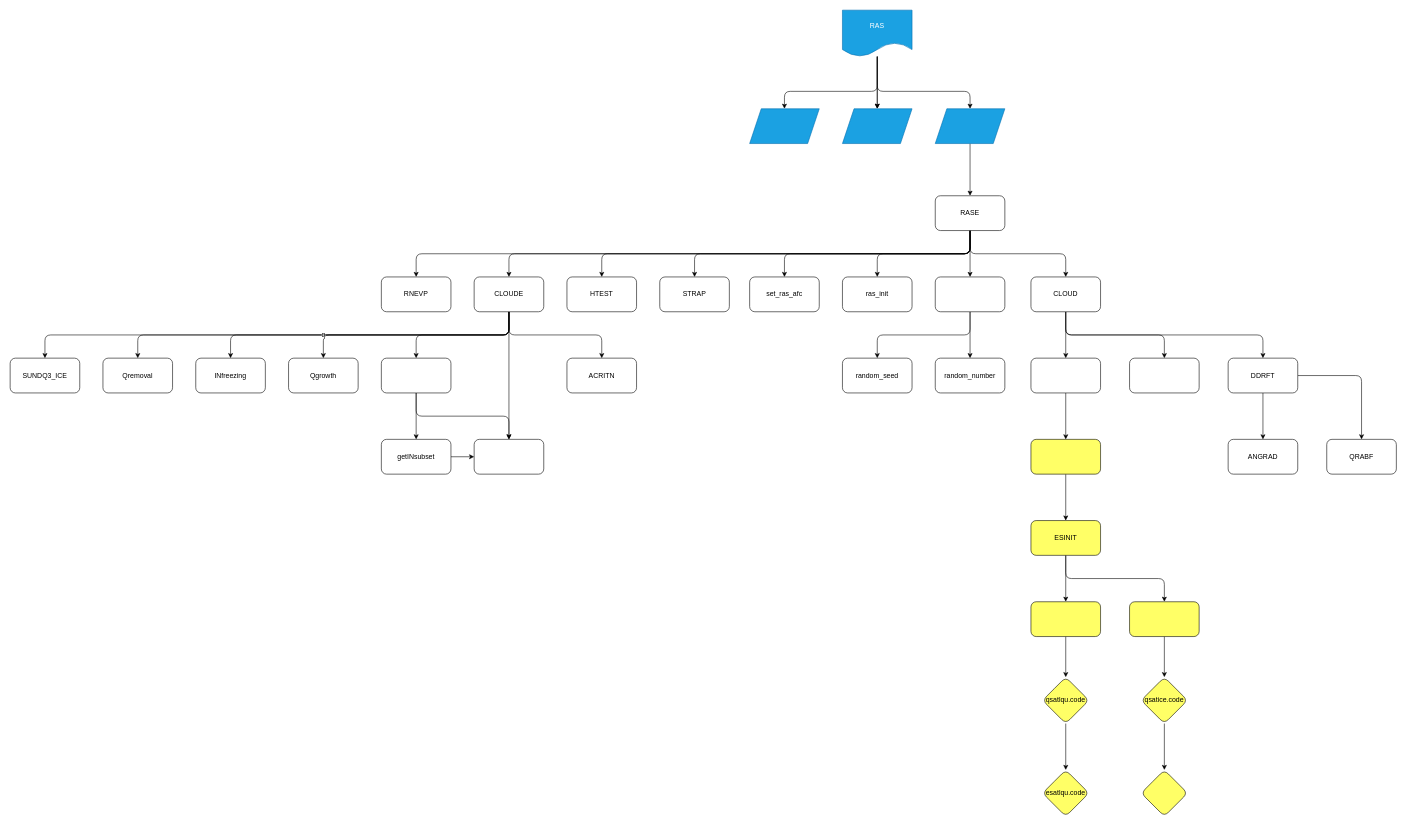
This 1407x827 diagram has some shape labels left out. Here are the shapes that lost their labels. From the top down, the centre of each, then its label:
the point at 784,126: Setup
the point at 877,126: Init
the point at 970,126: Run
the point at 970,294: FINDDTLS
the point at 416,375: ARGact
the point at 1065,375: QSATCN
the point at 1164,375: CRTWRK
the point at 509,456: init_Aer
the point at 1065,456: GEOS_DQSat
the point at 1065,619: QSATLQU0
the point at 1164,619: QSATICE0
the point at 1164,792: esatice.code
